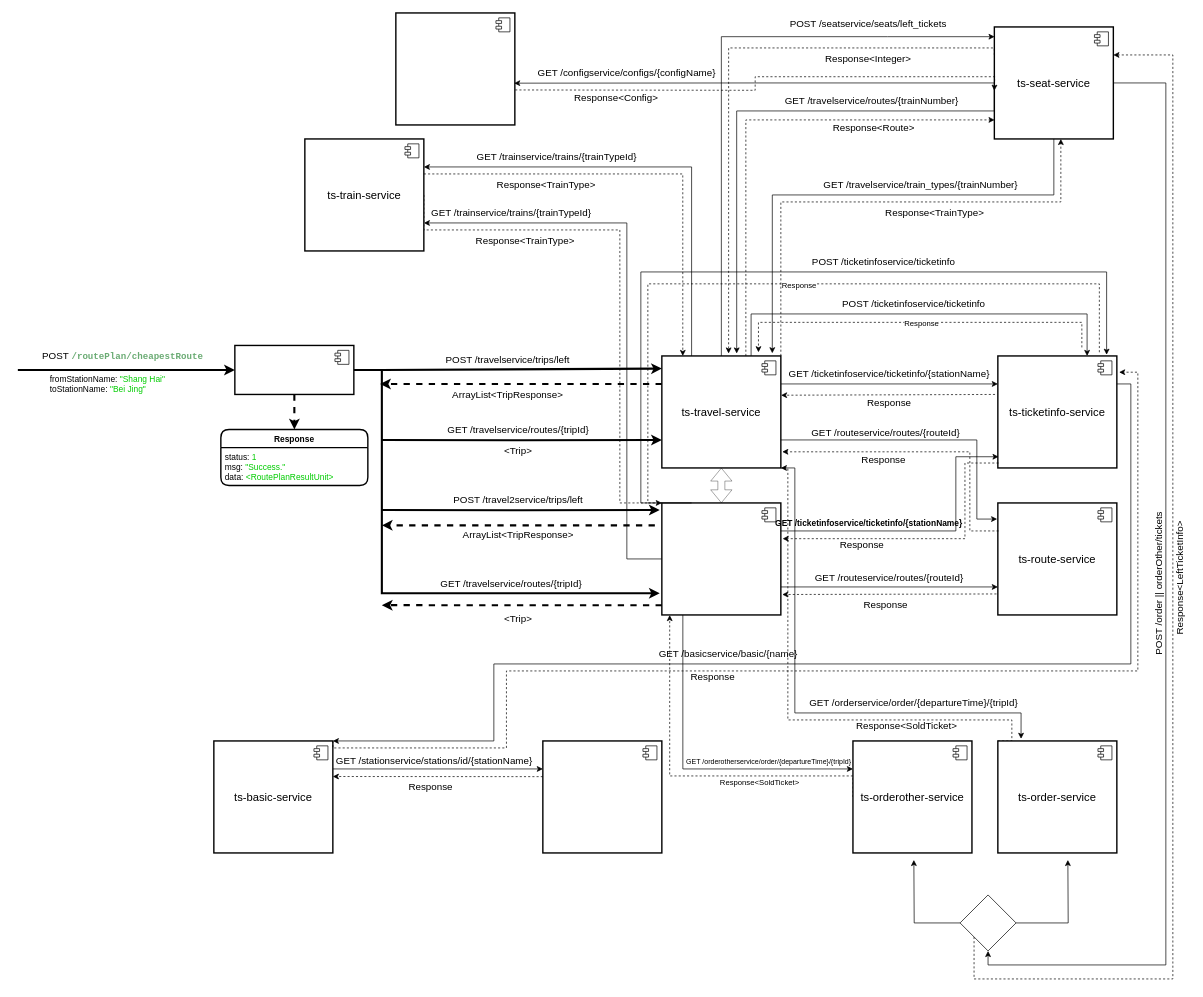
The diagram is 1203 pixels wide and 997 high, and some of its shapes have lost their labels. The shapes that lost their labels are listed below. From the top down, each one's box as (x1, y1, x2, y2) in pixels, then its label:
(395, 12, 515, 125): ts-config -service
(234, 344, 354, 395): ts-route-plan-service
(661, 502, 781, 615): ts-travel2-service
(542, 740, 662, 853): ts-station-service
